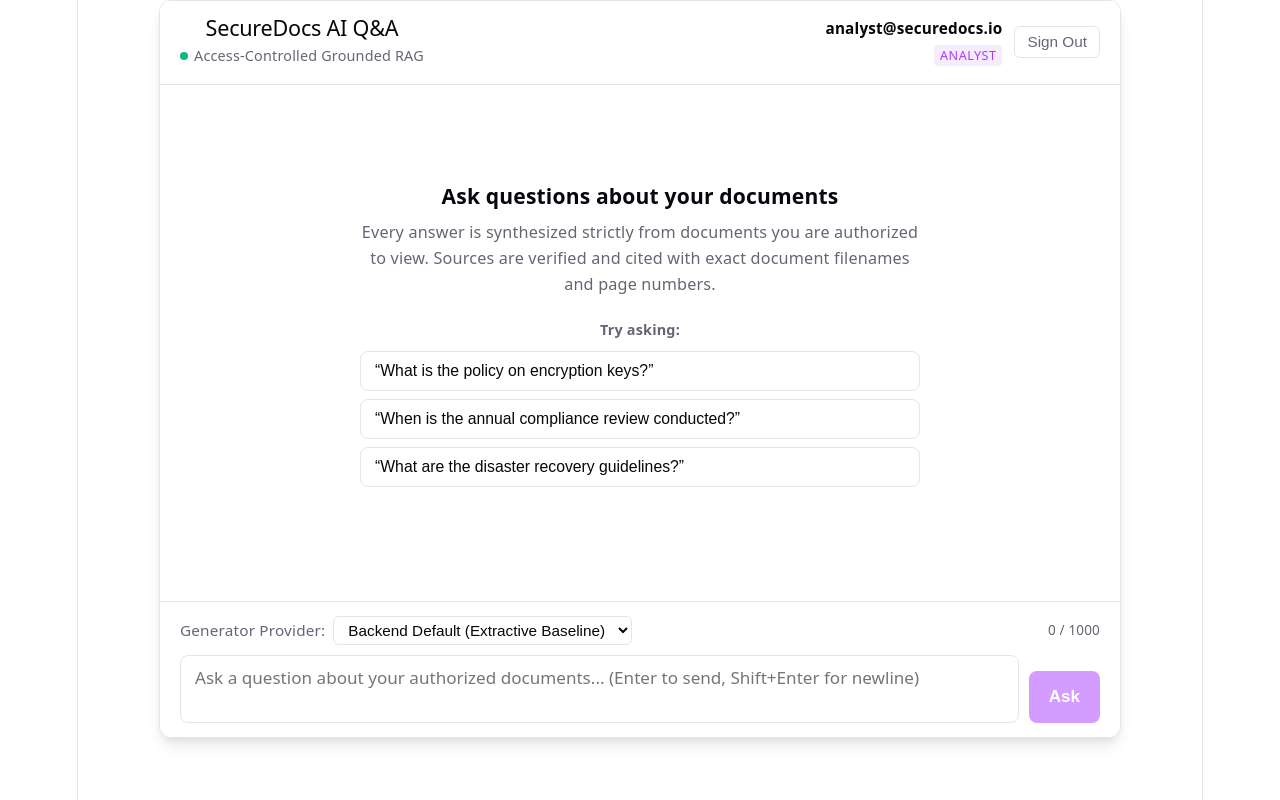
QAChat Component › submits question and renders answer with verified citations
Replace the text in the text box with test id "question-input" with "What is the encryption standard for backups?" at point(599, 689), box [180,655,1019,723]
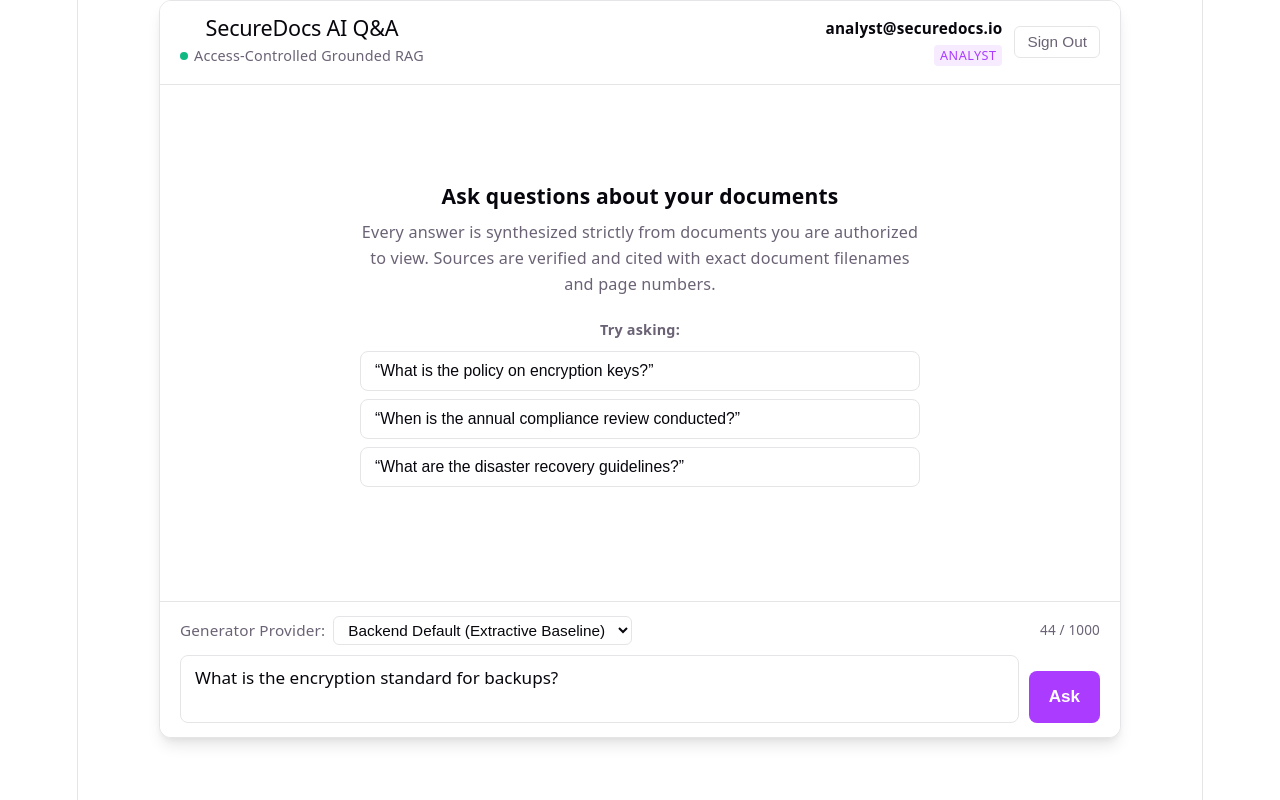
Click the button with test id "submit-question-button" at point(1064, 697), box [1029,671,1100,723]
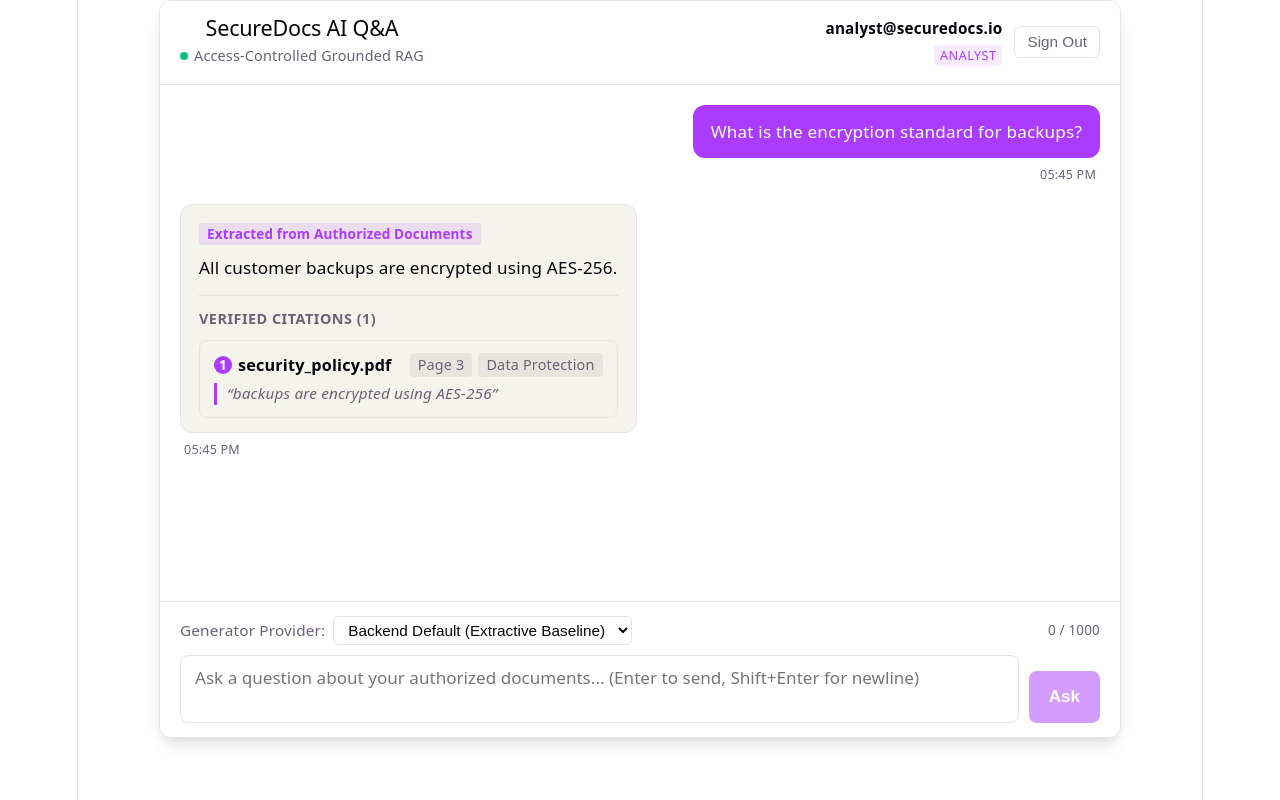
Result: the text "What is the encryption standard for backups?" is shown at [711,118,1082,144]
Result: the text "All customer backups are encrypted using AES-256." is shown at [199,255,618,281]
Result: the text "security_policy.pdf" is shown at [238,354,392,376]
